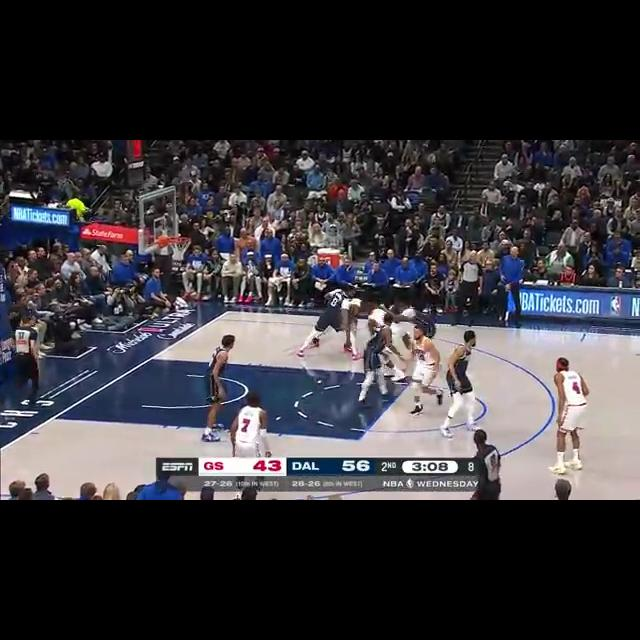Team-1-Player: (438, 328, 488, 440), (354, 312, 404, 406), (298, 284, 357, 356), (200, 332, 234, 443), (392, 297, 438, 339)
Team-2-Player: (548, 353, 590, 472), (407, 327, 449, 415), (228, 388, 276, 452)
